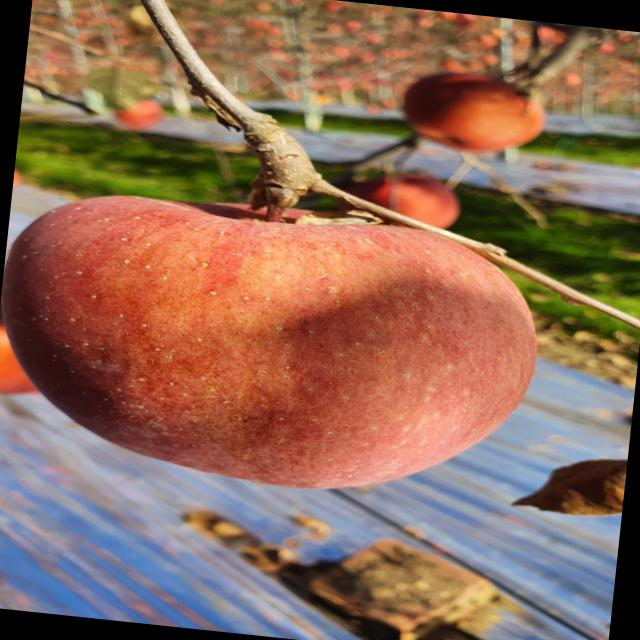fresh: (1, 176, 563, 518)
